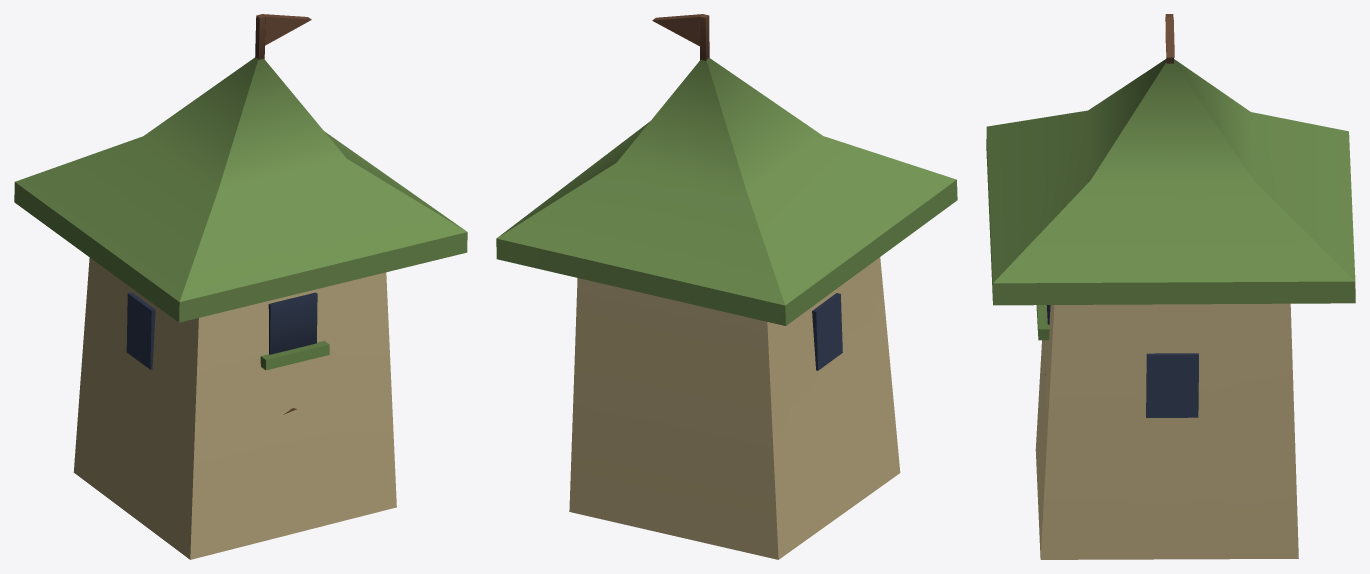
The model's file is building-3.glb.
The picture shows the model from 3 angles, left to right: view 1: azimuth 30°, elevation 25°; view 2: azimuth 150°, elevation 25°; view 3: azimuth 270°, elevation 25°; orthographic projection. The views are drawn at different scales.
Visible parts, largest first — view 1: building; view 2: building; view 3: building.
Boxes of the visible parts, x1,y1,x2,y2 form: building: [14, 14, 467, 559]; building: [496, 14, 957, 559]; building: [986, 14, 1355, 559].
Size of the model in its own units: 1.05 by 1.6 by 1.06.
